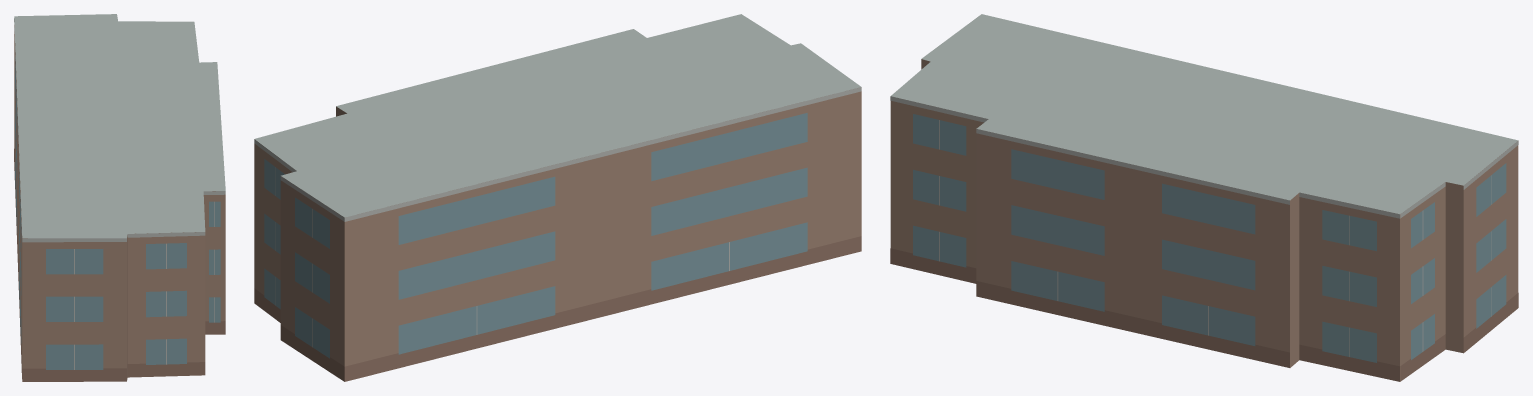
Rendered from survey-upis-32737726.glb.
3 views of the same model, side by side, from view 1: azimuth 30°, elevation 25°; view 2: azimuth 150°, elevation 25°; view 3: azimuth 270°, elevation 25° (orthographic). The views are drawn at different scales.
Parts seen in each view (by area): view 1: survey-upis-32737726.tmp; view 2: survey-upis-32737726.tmp; view 3: survey-upis-32737726.tmp.
Part boxes in pixels (bbox=[...]): survey-upis-32737726.tmp: bbox=[14, 14, 225, 381]; survey-upis-32737726.tmp: bbox=[254, 14, 861, 381]; survey-upis-32737726.tmp: bbox=[890, 14, 1518, 381].
Size of the model in its own units: 23.45 by 9.15 by 31.07.
